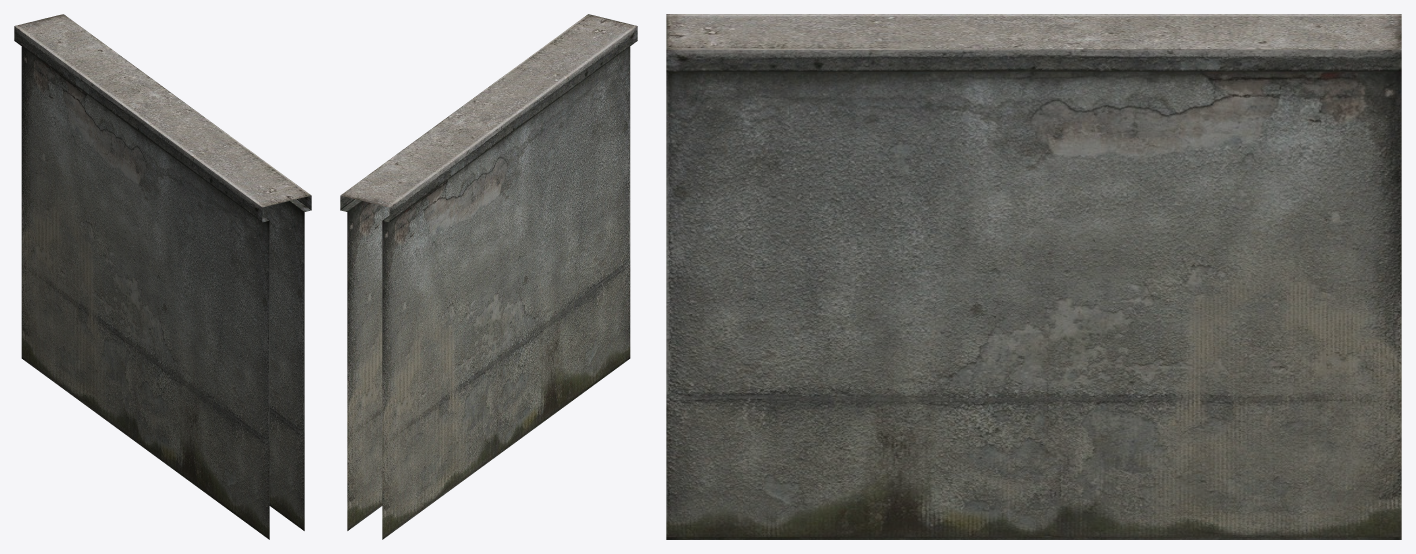
File: Concrete_fence_v1_s1.glb
3 views of the same model, side by side, from view 1: azimuth 30°, elevation 25°; view 2: azimuth 150°, elevation 25°; view 3: azimuth 270°, elevation 25° (orthographic). The views are drawn at different scales.
Visible parts, largest first — view 1: Concrete_fence_v1_s1; view 2: Concrete_fence_v1_s1; view 3: Concrete_fence_v1_s1.
Boxes of the visible parts, x1,y1,x2,y2 form: Concrete_fence_v1_s1: (14,14,311,539); Concrete_fence_v1_s1: (340,14,637,539); Concrete_fence_v1_s1: (666,14,1401,539).
Bounding box in the file's own units: 0.4622 × 2.99 × 4.03.
Materials: 1 (1 with a texture image).
